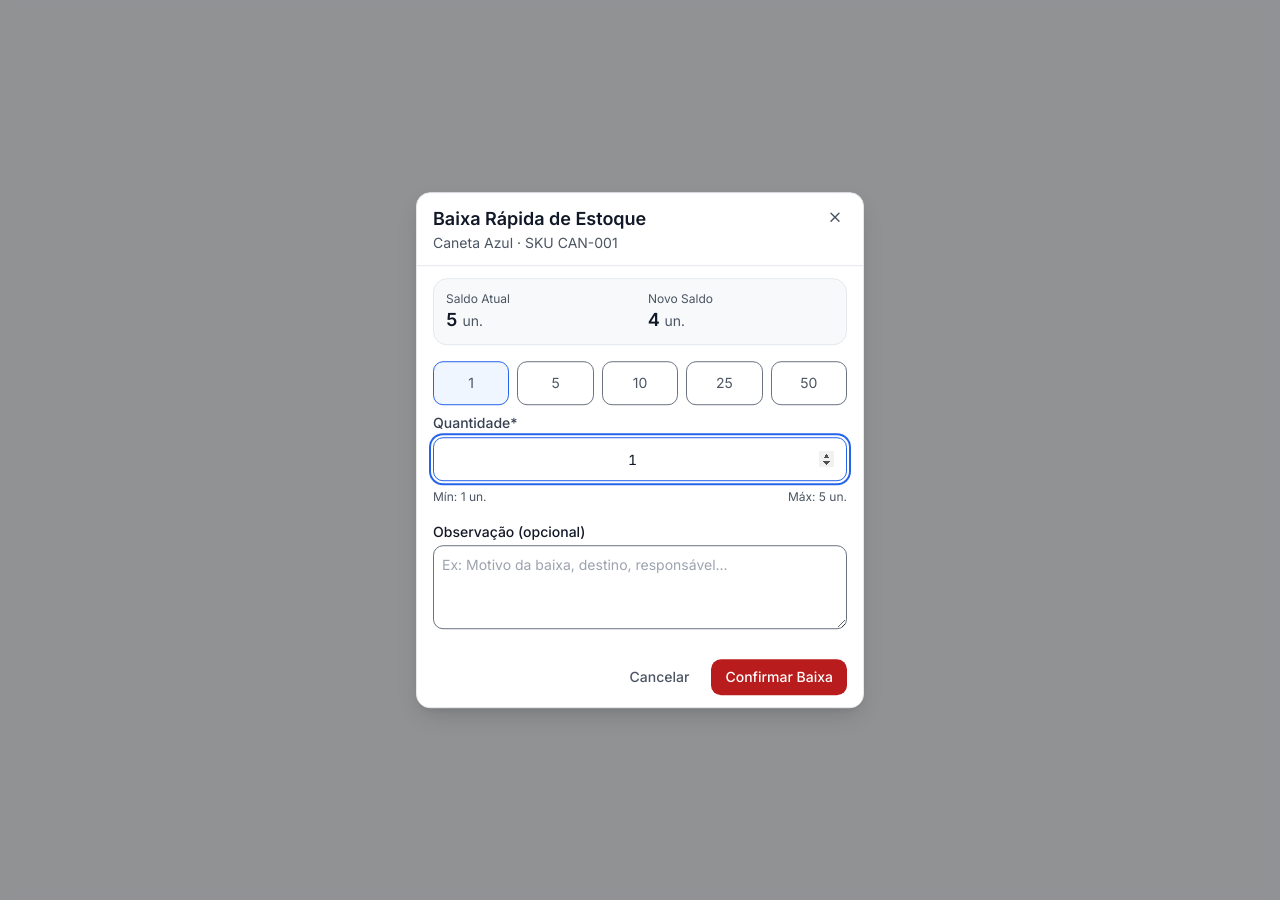
Test: QuickOutModal — erro da API chega ao usuário (F-07 / UF-26) › exibe a mensagem de negócio do backend (422 "Estoque insuficiente.")
Click the button "Confirmar Baixa".
click(779, 677)  # box [711,659,847,695]
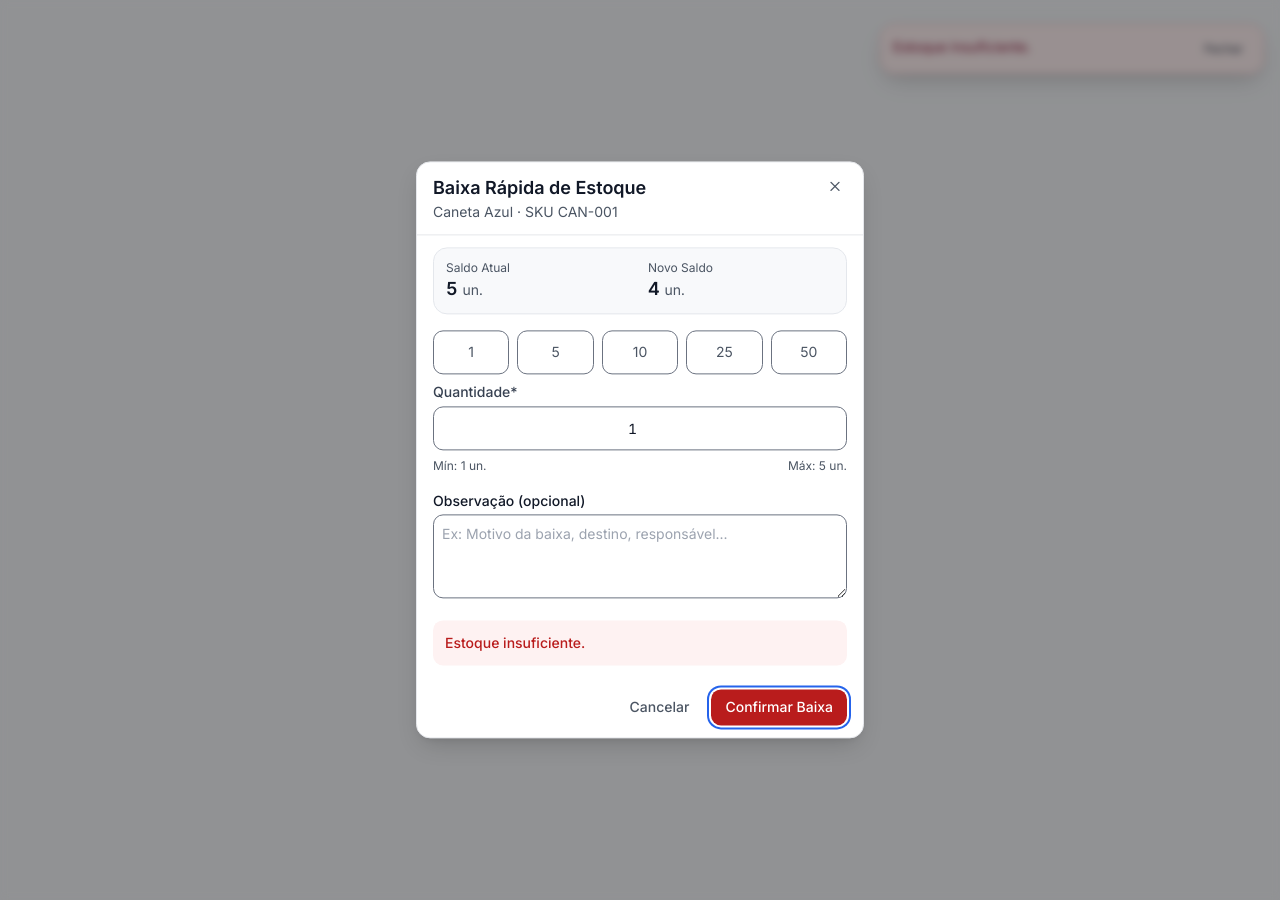
Result: the text "Estoque insuficiente." is shown at [893,38,1031,55]
